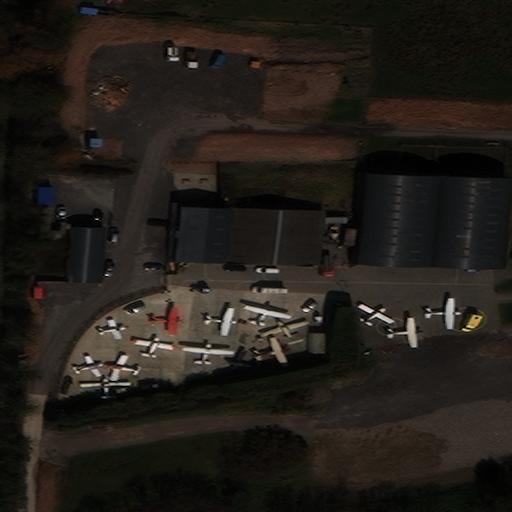Small Civil Transport: (423, 298, 462, 330), (78, 377, 131, 400), (259, 319, 305, 344), (182, 343, 234, 365), (242, 303, 291, 326), (250, 337, 290, 365), (386, 317, 422, 348), (149, 303, 180, 334), (203, 308, 235, 335), (227, 349, 260, 375), (105, 355, 139, 380), (134, 337, 172, 357), (360, 303, 395, 324), (73, 354, 102, 376), (97, 319, 125, 338)
